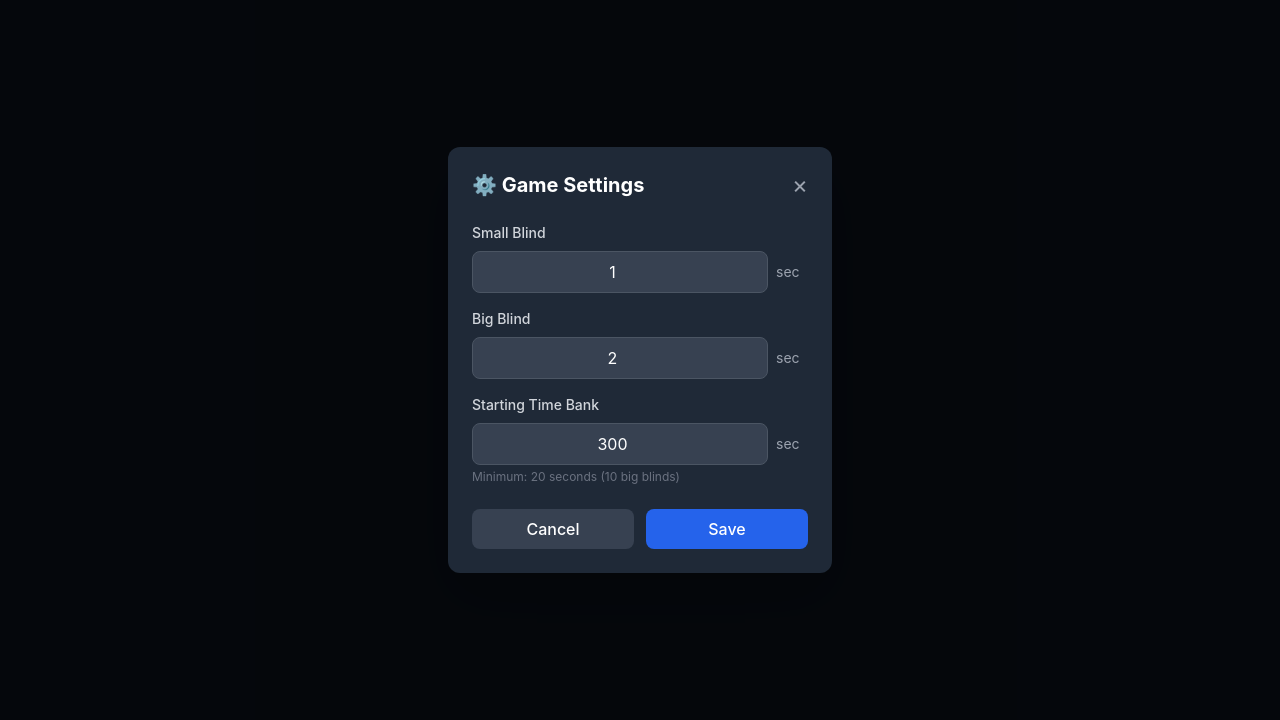
Test: SettingsModal › inputs › should raise time bank when small blind auto-bumps big blind past the minimum
This screenshot has width=1280, height=720.
Step 1. Replace the text in the number field below "Small Blind" with "25" → (620, 272), box top-left (472, 251), bottom-right (768, 293)
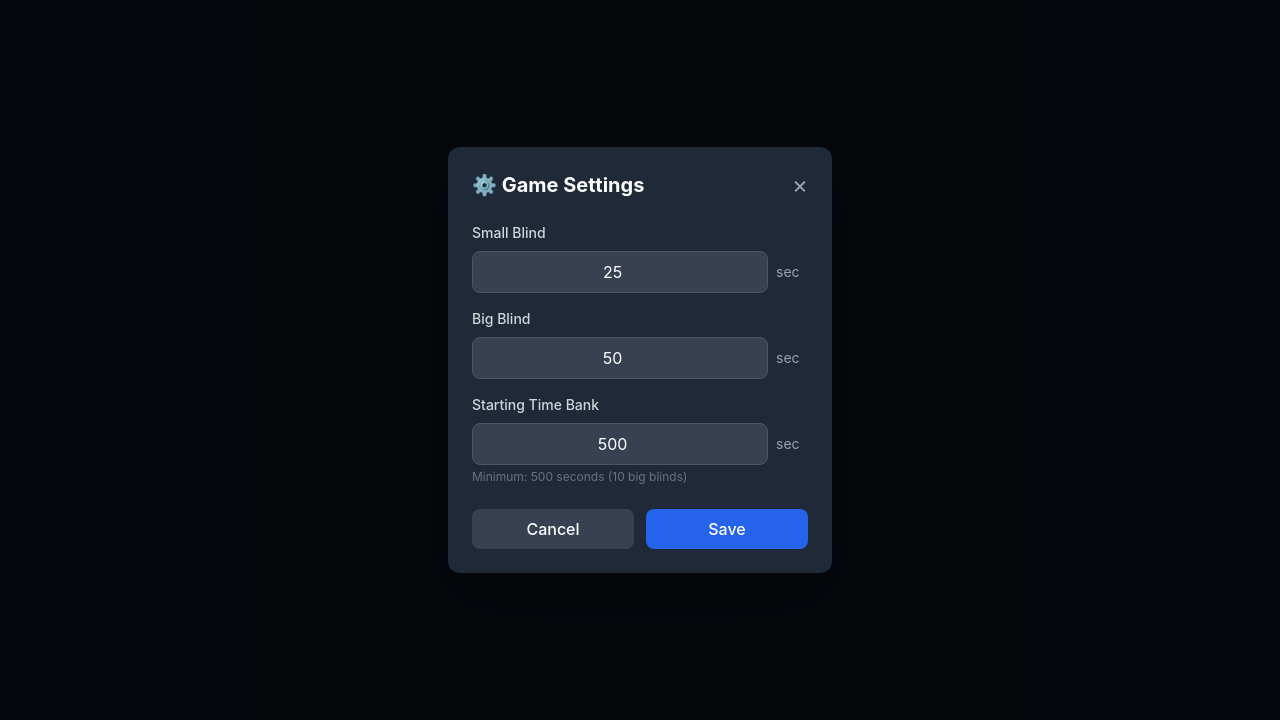
Expected: the 2nd number field holds "50", top-left (472, 337), bottom-right (768, 379)
Expected: the number field below "Starting Time Bank" holds "500", top-left (472, 423), bottom-right (768, 465)
